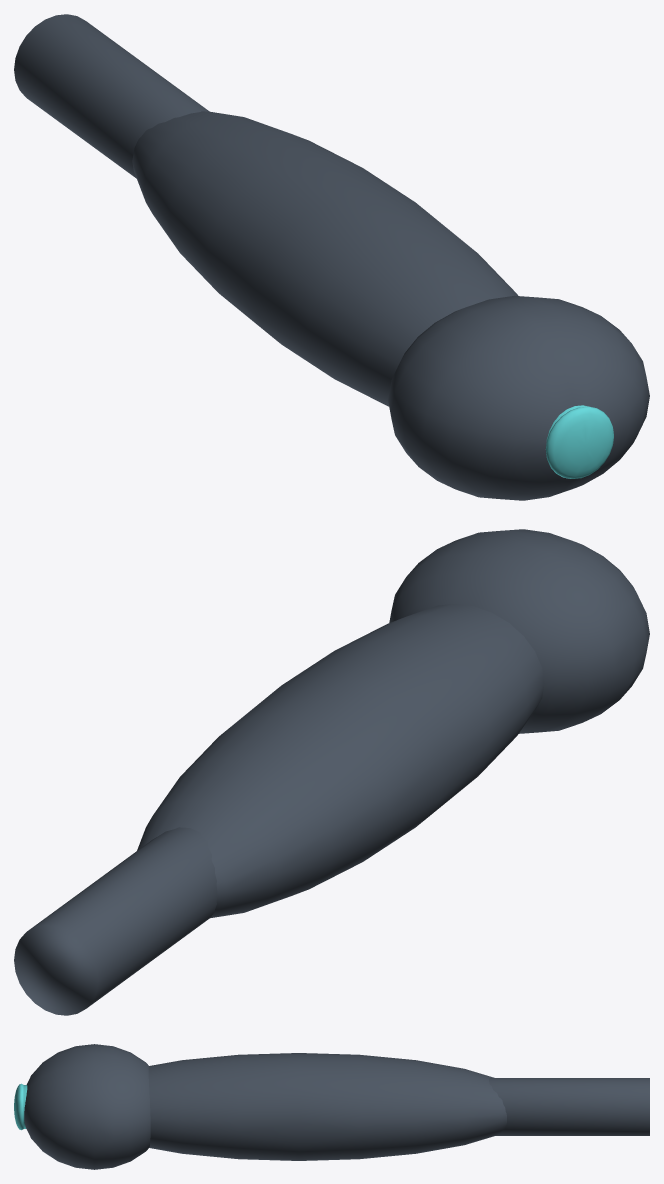
The model's file is handle.glb.
3 renders of one model, top to bottom at view 1: azimuth 30°, elevation 25°; view 2: azimuth 150°, elevation 25°; view 3: azimuth 270°, elevation 25°, orthographic. The views are drawn at different scales.
Visible parts, largest first — view 1: HANDLE_body, HANDLE_suction; view 2: HANDLE_body; view 3: HANDLE_body, HANDLE_suction.
Boxes of the visible parts, x1,y1,x2,y2 form: HANDLE_body: (14,14,649,500); HANDLE_suction: (545,405,613,478); HANDLE_body: (14,529,649,1015); HANDLE_body: (24,1044,649,1169); HANDLE_suction: (14,1083,27,1130).
Size of the model in its own units: 22 by 16 by 87.
